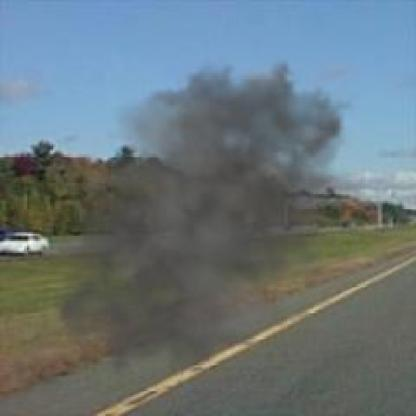Smoke: (31, 37, 369, 400)
